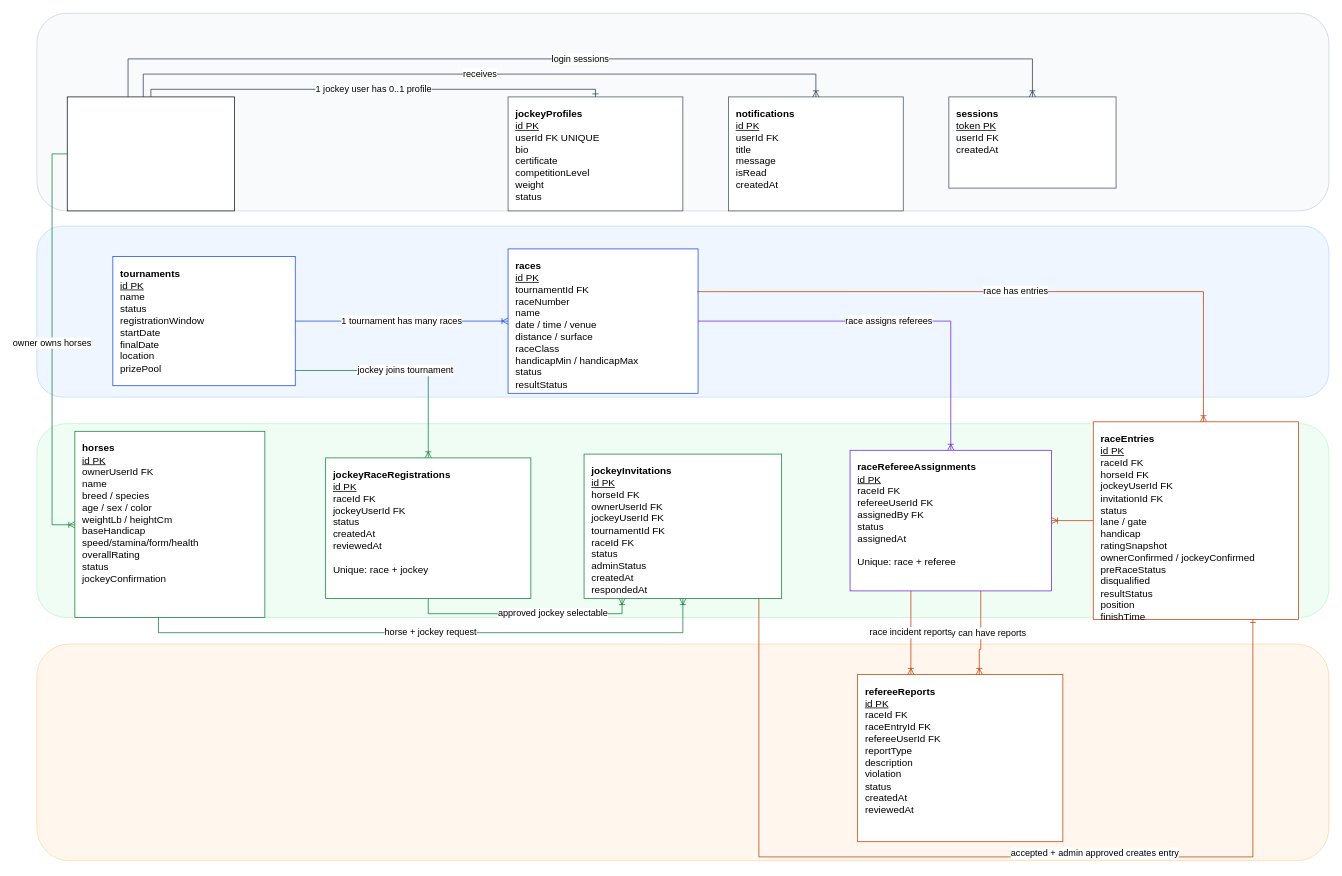
The diagram is 1342 pixels wide and 876 high, and some of its shapes have lost their labels. The shapes that lost their labels are listed below. From the top down, each one's box as (x1, y1, x2, y2) in pixels, then its label:
(36, 13, 1329, 211): IDENTITY / ROLE
(66, 96, 234, 211): users id PK name email UNIQUE password role status
(36, 225, 1329, 397): TOURNAMENT / RACE SETUP
(36, 423, 1329, 618): REGISTRATION / APPROVAL FLOW
(36, 643, 1329, 861): RACE OPERATION / RESULT / REFEREE
